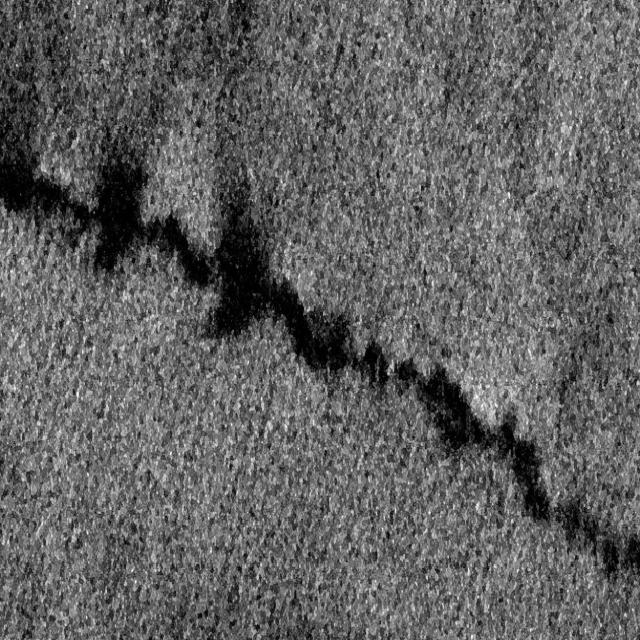look-alike: (282, 268, 639, 586), (0, 118, 279, 343)
